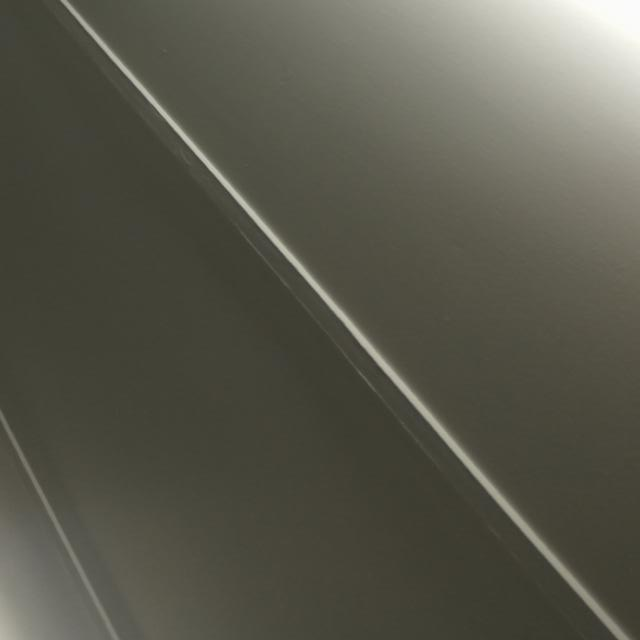fluorescent tube: (92, 0, 640, 31)
